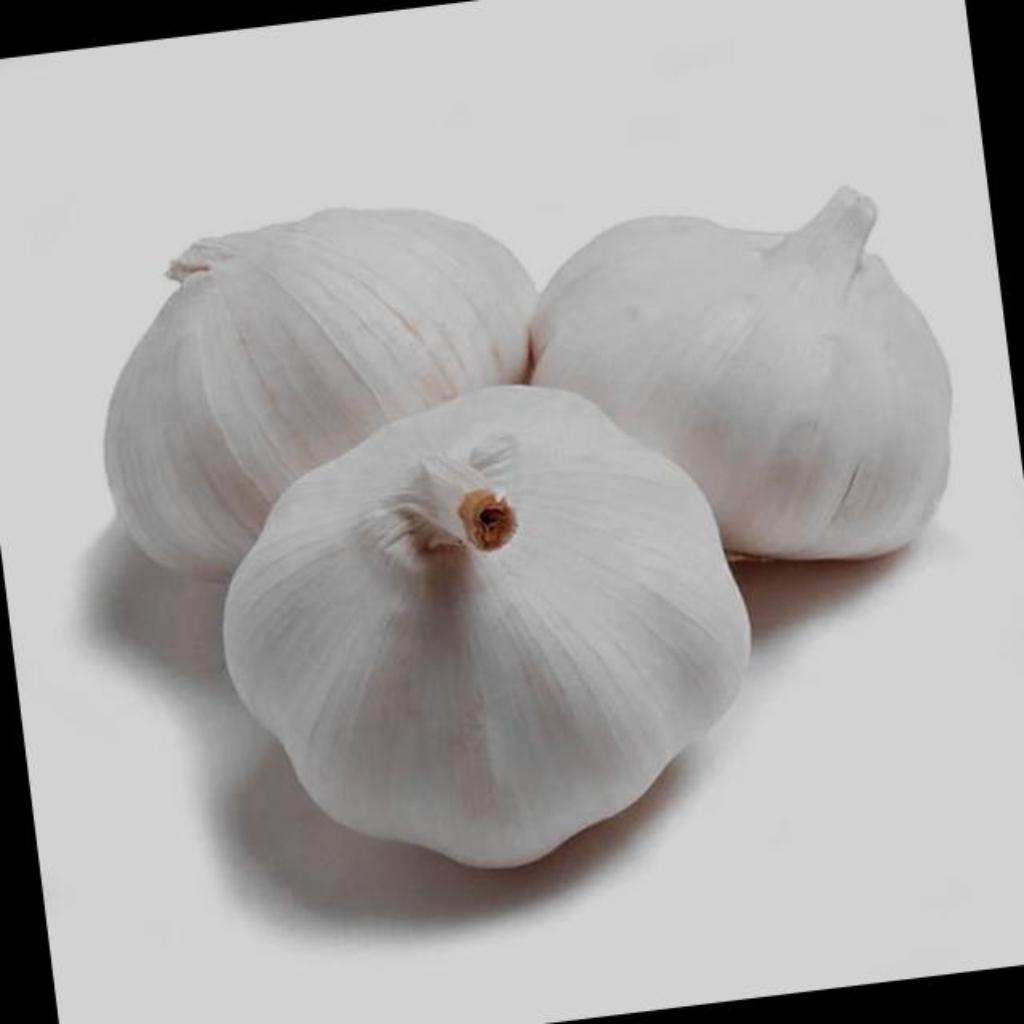garlic: (224, 386, 750, 867), (104, 208, 536, 577), (532, 186, 948, 559)
